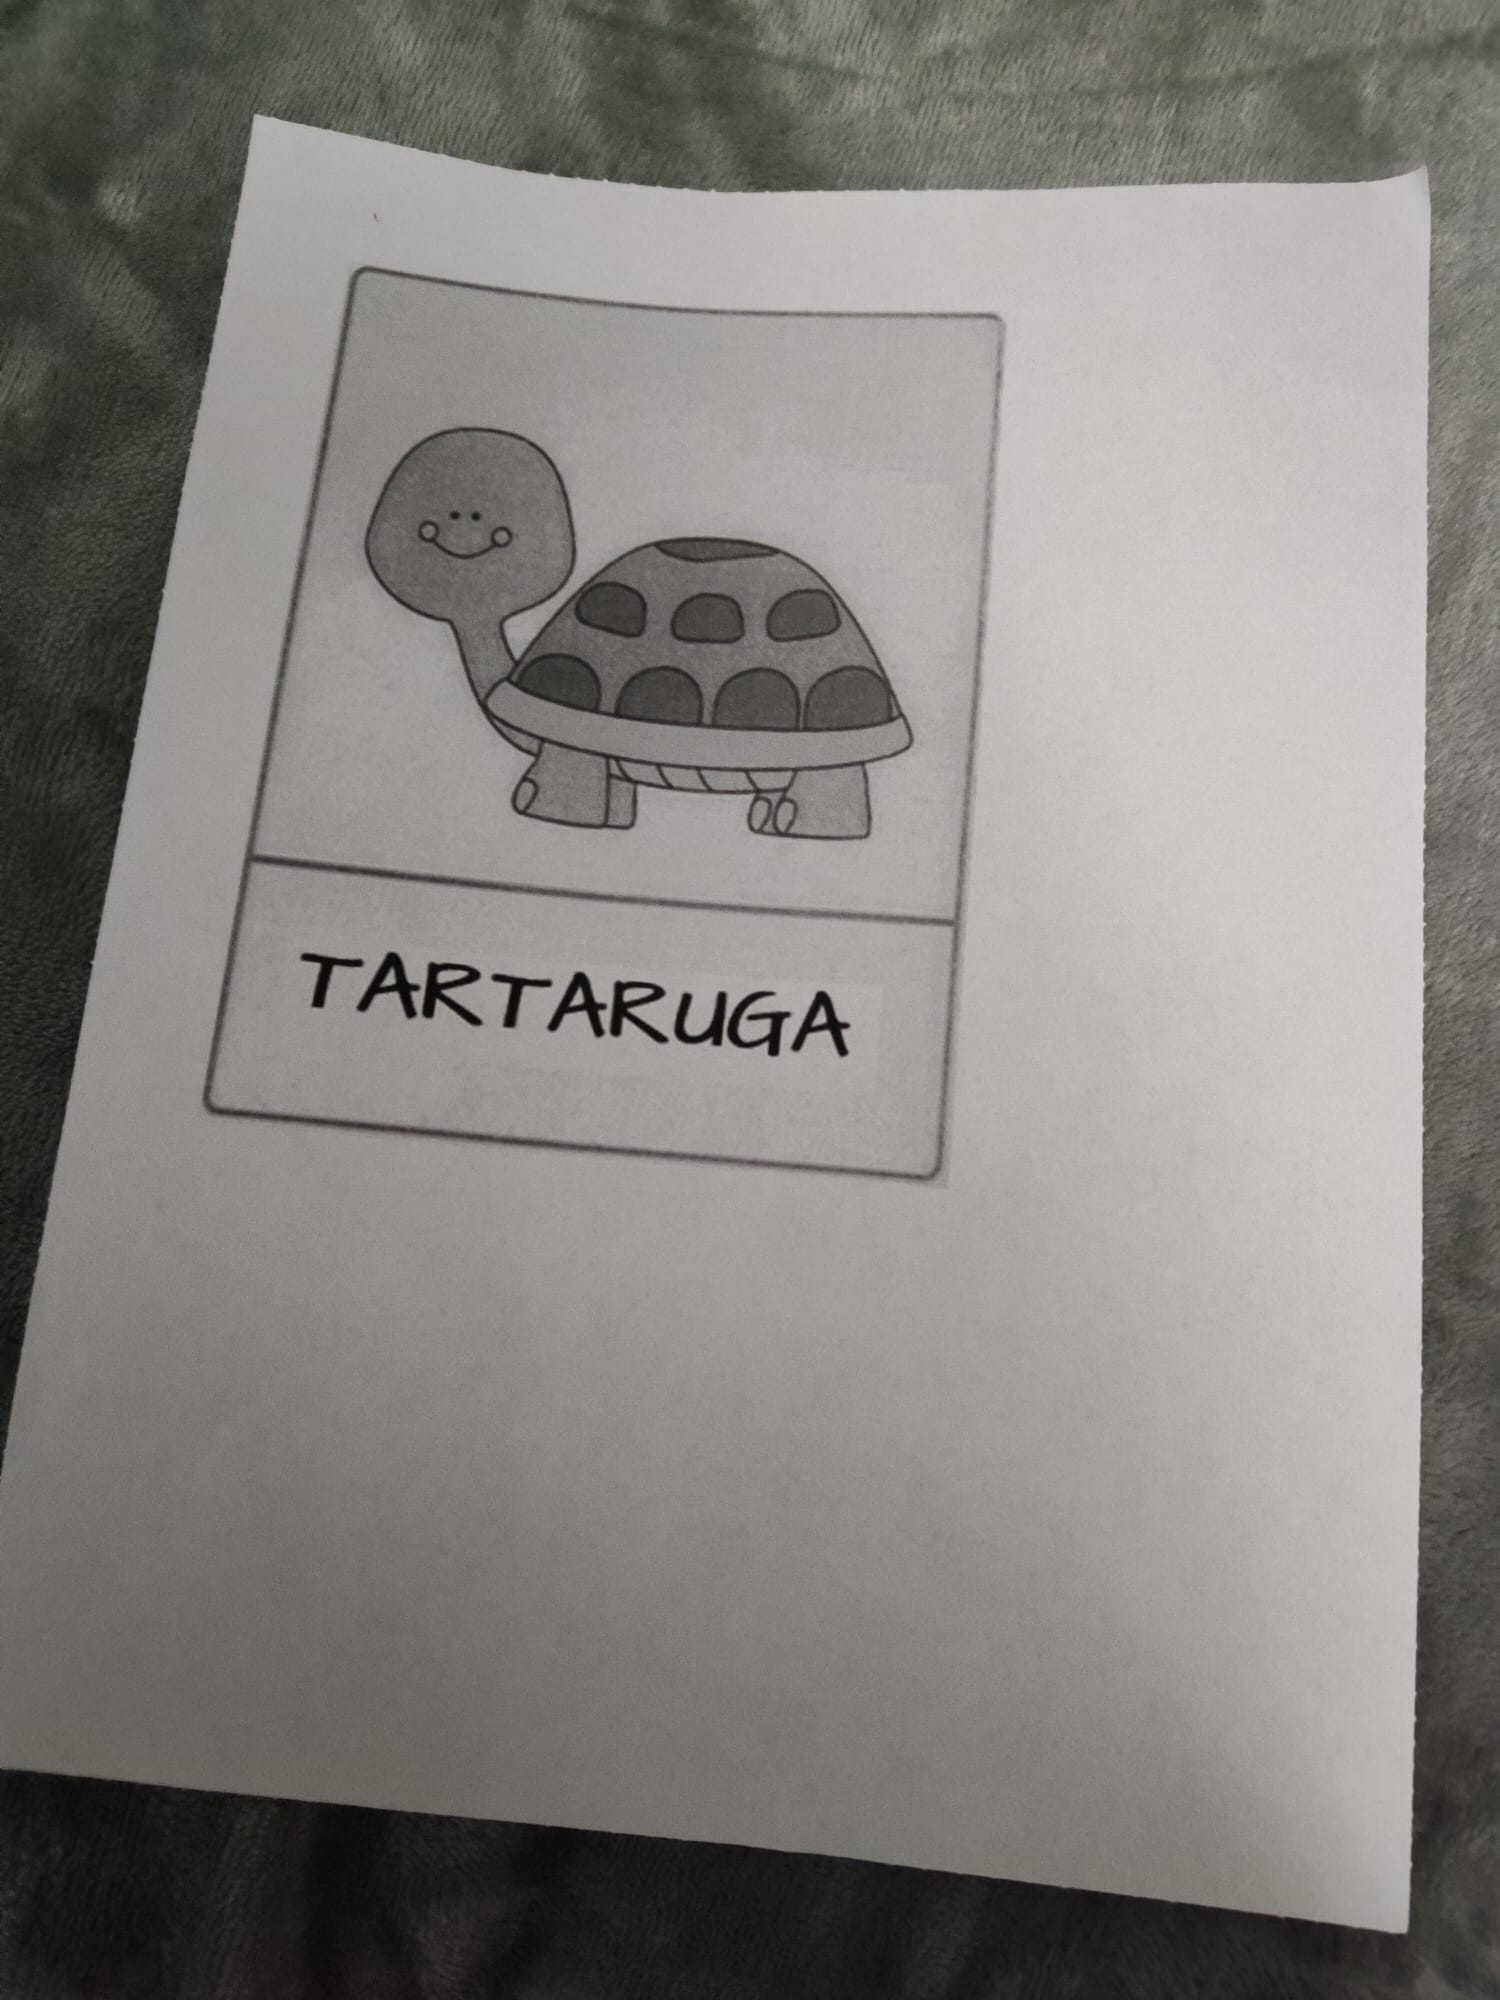tartaruga: (300, 278, 952, 1187)
